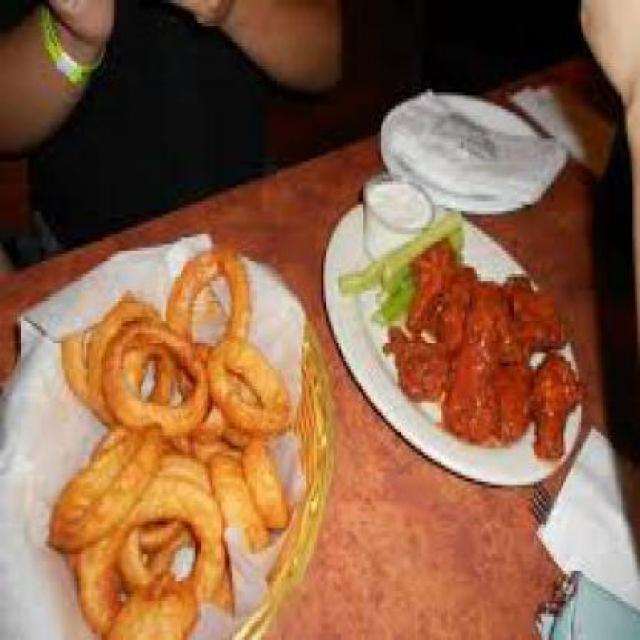chicken wings: (369, 241, 593, 468)
onion rings: (47, 240, 307, 637)
